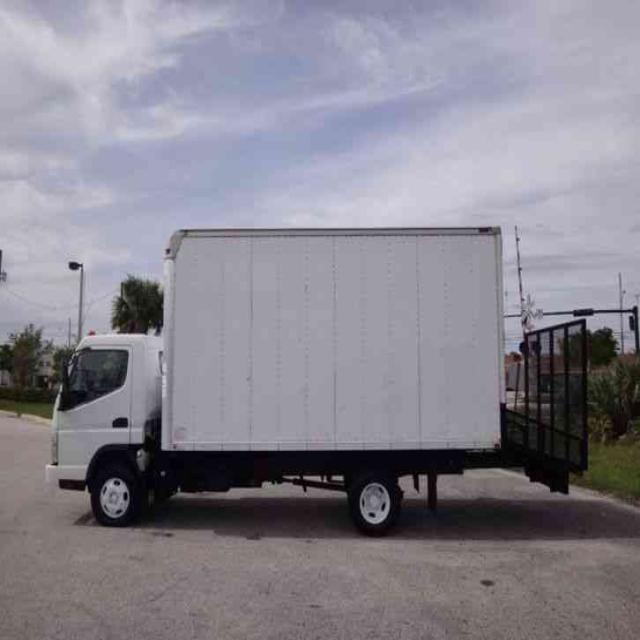truck: (43, 215, 591, 518)
